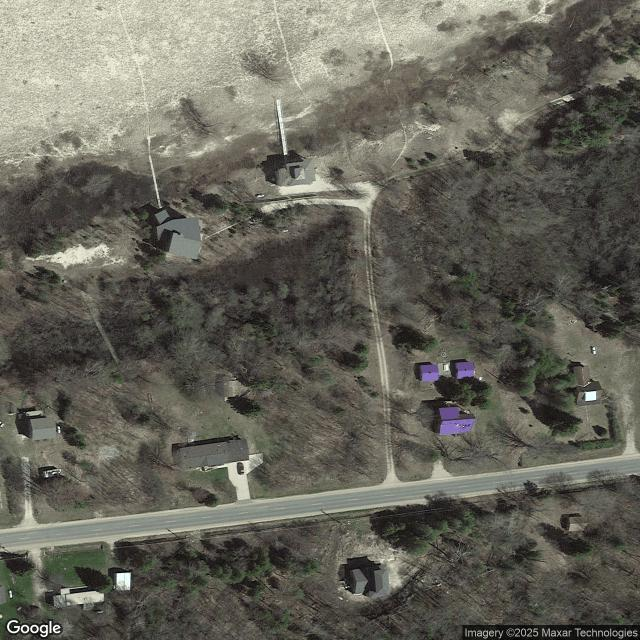Propane: (8, 589, 14, 599), (591, 346, 597, 355), (257, 193, 266, 198), (57, 425, 61, 435), (96, 610, 104, 614)
